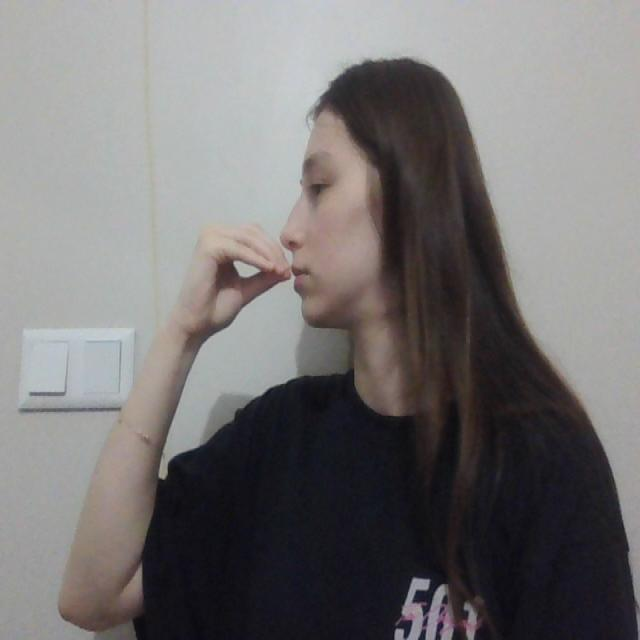Yemek: (180, 217, 328, 302)
